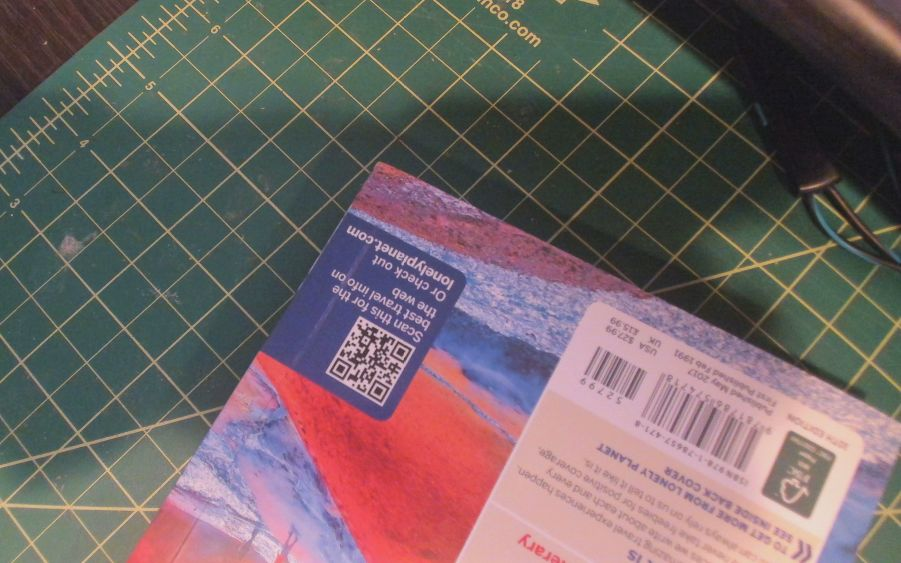QR_CODE: (317, 307, 426, 412)
